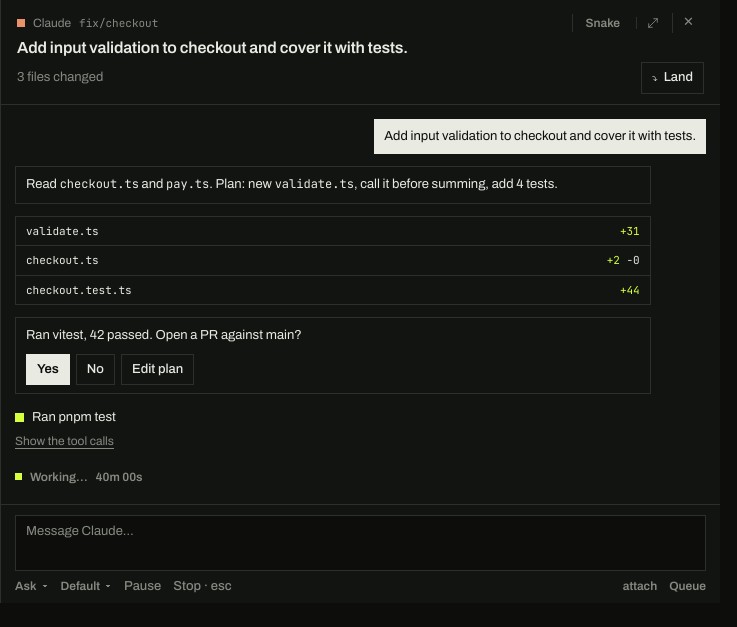
Scenario: ChatPane › renders tool rows from the stream with the status glyph
expect the list item "Ran pnpm test" is shown: met, box x1=32 y1=410 x2=116 y2=424
Click the button "Show the tool calls" at (64, 440), box x1=15 y1=432 x2=114 y2=450
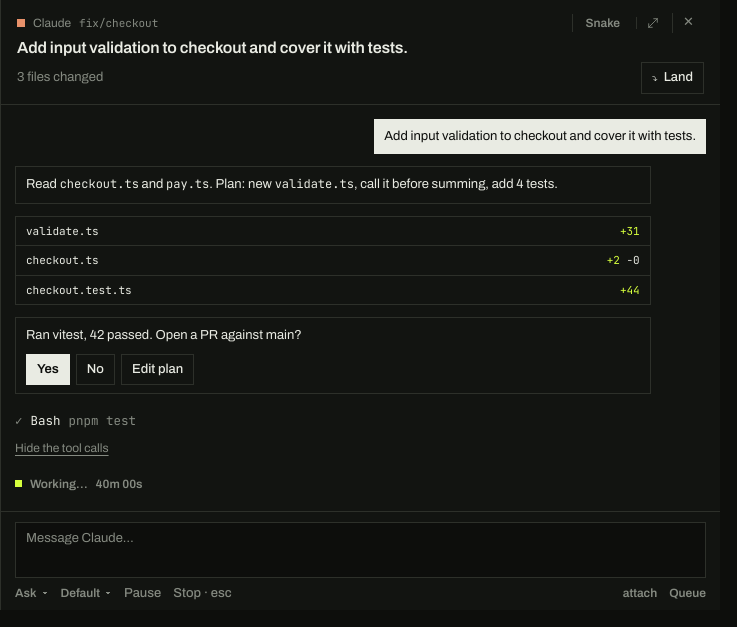
expect the element showing "✓ Bash pnpm test" is shown: met, box x1=15 y1=412 x2=136 y2=429
